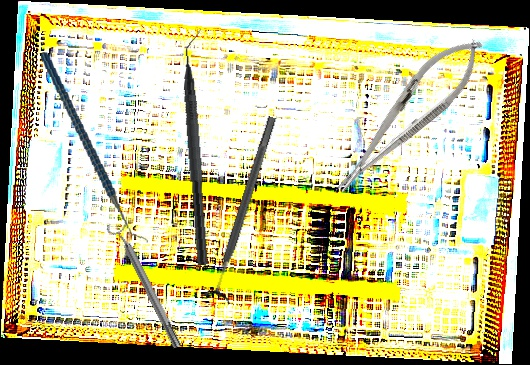Chopper: (40, 42, 149, 254), (176, 28, 225, 266)
Fixation Ring: (201, 112, 288, 305), (104, 216, 188, 353)
Needle Holder: (321, 24, 496, 206)
